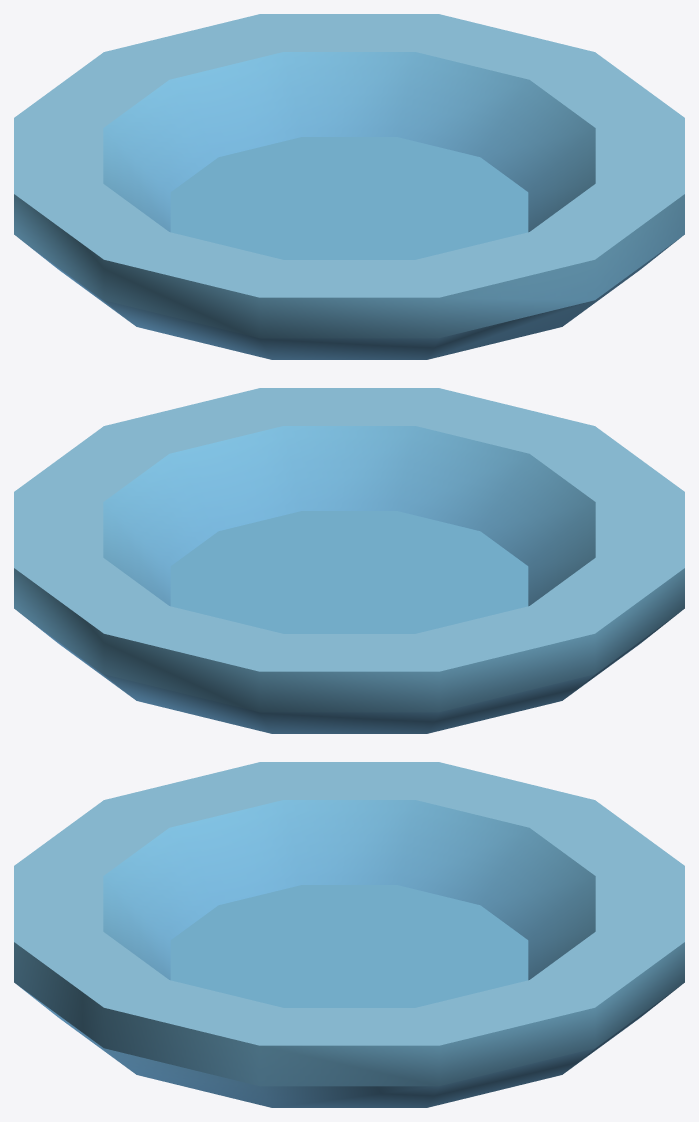
File: plate_small_blue.obj
3 renders of one model, top to bottom at view 1: azimuth 30°, elevation 25°; view 2: azimuth 150°, elevation 25°; view 3: azimuth 270°, elevation 25°, orthographic.
Visible parts, largest first — view 1: plate_small_blue; view 2: plate_small_blue; view 3: plate_small_blue.
Part boxes in pixels (x1=…): plate_small_blue: x1=14, y1=14, x2=684, y2=359; plate_small_blue: x1=14, y1=388, x2=684, y2=733; plate_small_blue: x1=14, y1=762, x2=684, y2=1107.
Bounding box in the file's own units: 0.75 × 0.1 × 0.75.
1 material, 1 textured.
